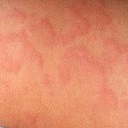Hives: (66, 53, 112, 112), (39, 7, 85, 44)
